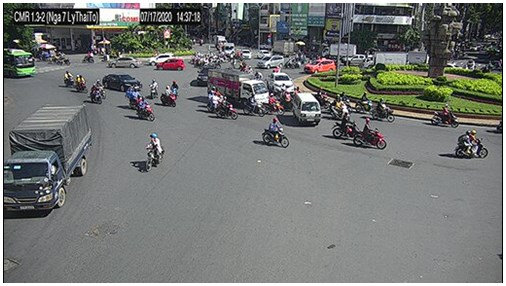xe_ban_tai: (266, 72, 294, 93)
xe_buyt: (3, 47, 35, 78)
xe_hoi: (294, 92, 322, 127), (102, 74, 143, 93), (302, 59, 336, 73), (105, 56, 141, 69), (155, 58, 184, 72), (146, 52, 174, 66), (258, 55, 283, 68), (195, 66, 207, 86)
xe_khach: (220, 41, 235, 58)
xe_may: (351, 118, 387, 150), (454, 130, 489, 160), (141, 132, 166, 173), (260, 118, 289, 148), (430, 103, 460, 128), (370, 98, 395, 123), (329, 94, 352, 121), (214, 96, 238, 121), (242, 91, 266, 116), (132, 95, 154, 121), (205, 85, 224, 113), (354, 91, 377, 114), (263, 93, 285, 116), (125, 86, 144, 109), (160, 85, 177, 107), (72, 74, 89, 94), (89, 83, 102, 105), (94, 80, 106, 99), (81, 50, 96, 64), (147, 78, 158, 97), (62, 69, 73, 88), (170, 79, 180, 99)
xe_tai: (3, 103, 89, 211), (207, 67, 269, 106), (361, 53, 406, 69), (320, 43, 355, 57), (402, 50, 428, 65), (267, 40, 294, 54)
